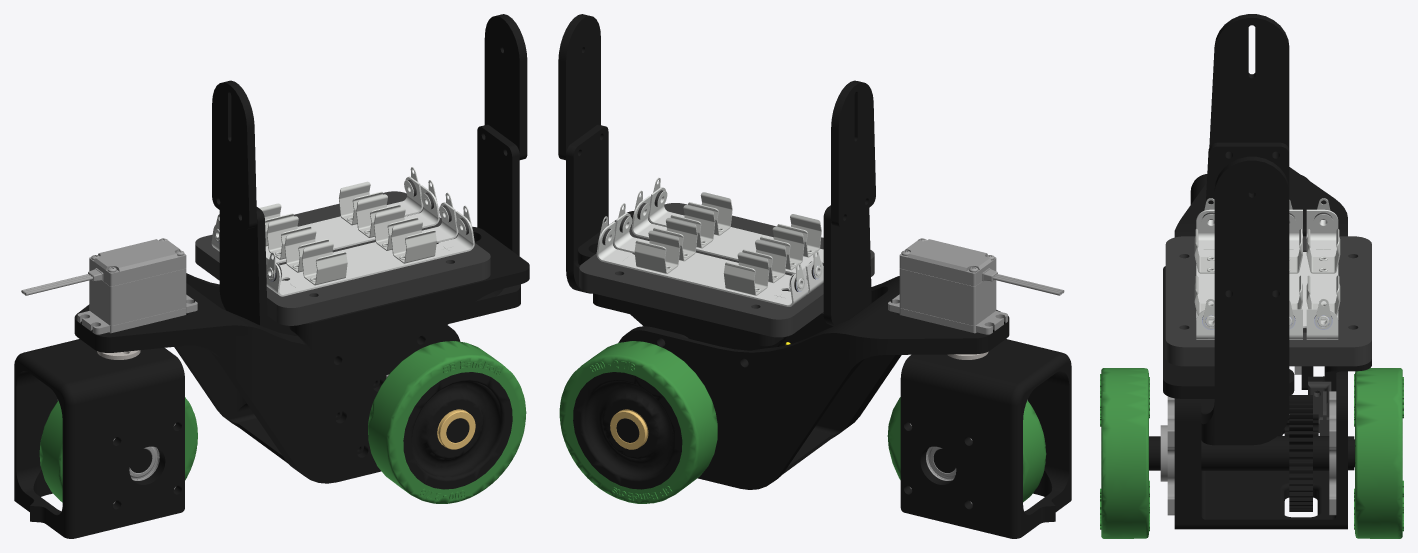
The model's file is v1-servo.glb.
The picture shows the model from 3 angles, left to right: view 1: azimuth 30°, elevation 25°; view 2: azimuth 150°, elevation 25°; view 3: azimuth 270°, elevation 25°; orthographic projection. The views are drawn at different scales.
Parts seen in each view (by area): view 1: object 7, anim_ev1_7_front_wheel_holder_1, object 1, object 15, object 2, object 3, anim_ev1_4_BaneBots_2_875_x0_8_30A_Wheel_4, object 16; view 2: object 7, anim_ev1_7_front_wheel_holder_1, object 1, object 15, object 2, object 3, anim_ev1_4_BaneBots_2_875_x0_8_30A_Wheel_4, object 16; view 3: object 7, object 15, object 2, object 1, object 3, anim_ev1_7_front_wheel_holder_1.
Boxes of the visible parts, x1,y1,x2,y2 form: object 7: (74, 14, 529, 489); anim_ev1_7_front_wheel_holder_1: (14, 339, 184, 538); object 1: (211, 167, 474, 296); object 15: (368, 341, 526, 503); object 2: (195, 191, 490, 325); object 3: (21, 238, 388, 378); anim_ev1_4_BaneBots_2_875_x0_8_30A_Wheel_4: (39, 397, 197, 502); object 16: (437, 409, 475, 449); object 7: (558, 14, 1009, 489); anim_ev1_7_front_wheel_holder_1: (900, 339, 1071, 538); object 1: (596, 177, 823, 306); object 15: (559, 341, 717, 503); object 2: (579, 203, 874, 337); object 3: (888, 238, 1064, 334); anim_ev1_4_BaneBots_2_875_x0_8_30A_Wheel_4: (887, 397, 1046, 502); object 16: (610, 409, 648, 449); object 7: (1149, 14, 1371, 529); object 15: (1100, 368, 1403, 538); object 2: (1165, 236, 1371, 435); object 1: (1194, 198, 1340, 339); object 3: (1160, 74, 1336, 515); anim_ev1_7_front_wheel_holder_1: (1190, 174, 1313, 389).
Bounding box in the file's own units: 0.2566 × 0.2044 × 0.1297.
